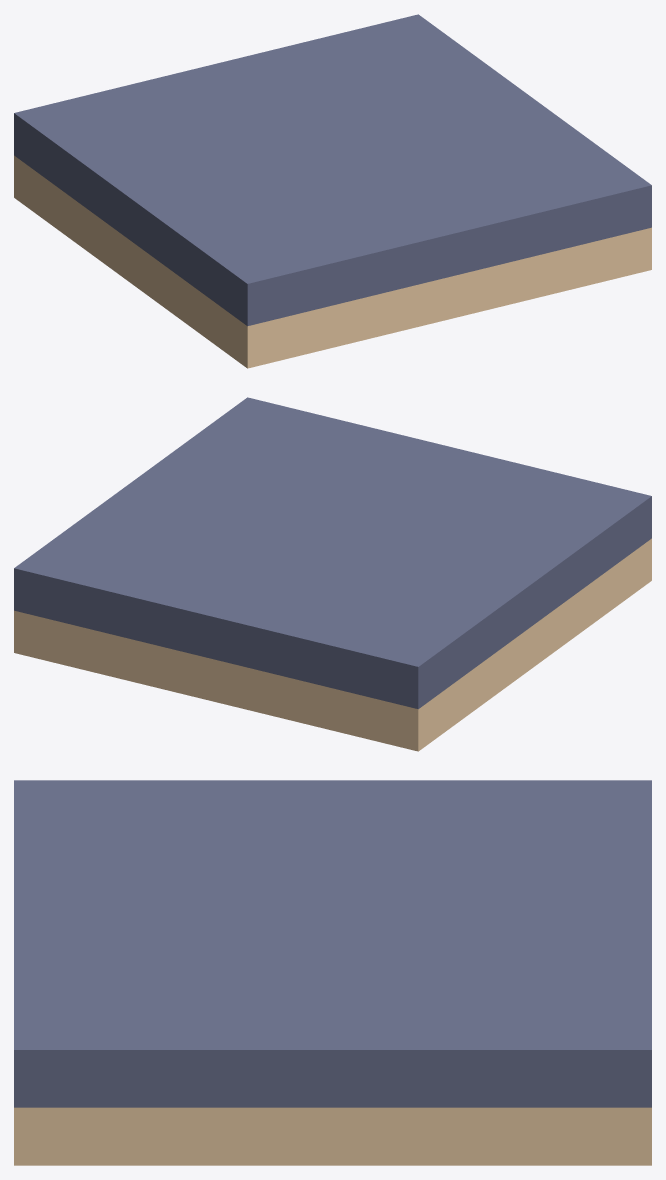
The model's file is tile_barren.glb.
3 views of the same model, one above another, from view 1: azimuth 30°, elevation 25°; view 2: azimuth 150°, elevation 25°; view 3: azimuth 270°, elevation 25° (orthographic). The views are drawn at different scales.
Parts seen in each view (by area): view 1: tile_empty; view 2: tile_empty; view 3: tile_empty.
Boxes of the visible parts, x1=… form: tile_empty: x1=14, y1=14, x2=651, y2=368; tile_empty: x1=14, y1=397, x2=651, y2=751; tile_empty: x1=14, y1=780, x2=651, y2=1165.
Bounding box in the file's own units: 1 × 0.2 × 1.
